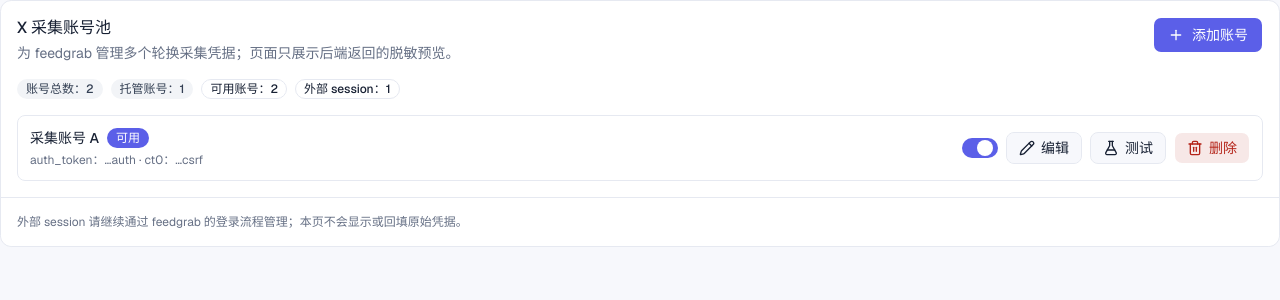
Test: XCredentialAccountsCard › clears a generic action error when a later action begins and succeeds
Click the button with aria-label "测试采集账号 A". click: [1128, 148]
box: [1090,132,1166,164]
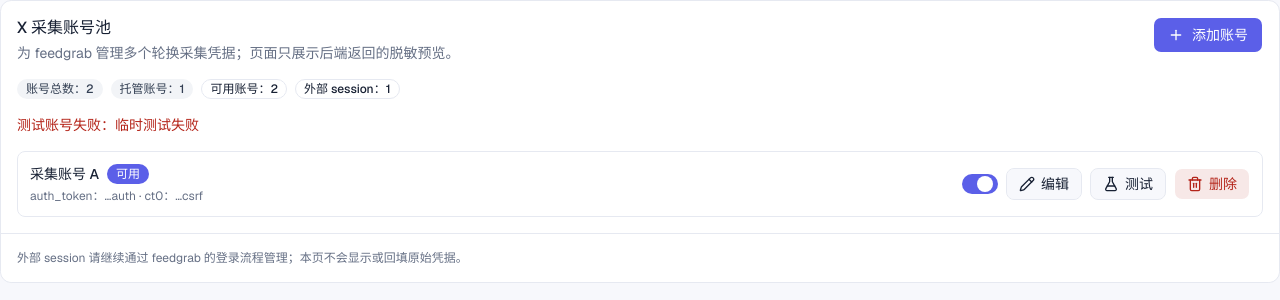
Result: the text "测试账号失败：临时测试失败" is shown at [17,116,199,134]
Click the button with aria-label "测试采集账号 A". click: [1128, 184]
box: [1090,168,1166,200]
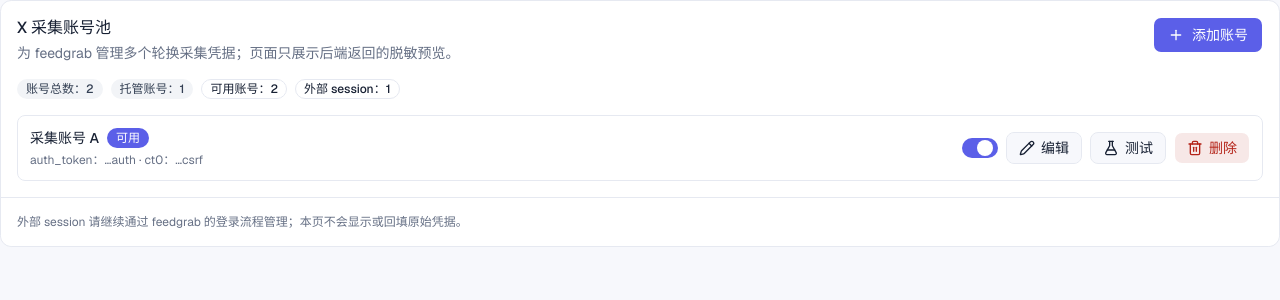
Result: the text "测试账号失败：临时测试失败" is gone
